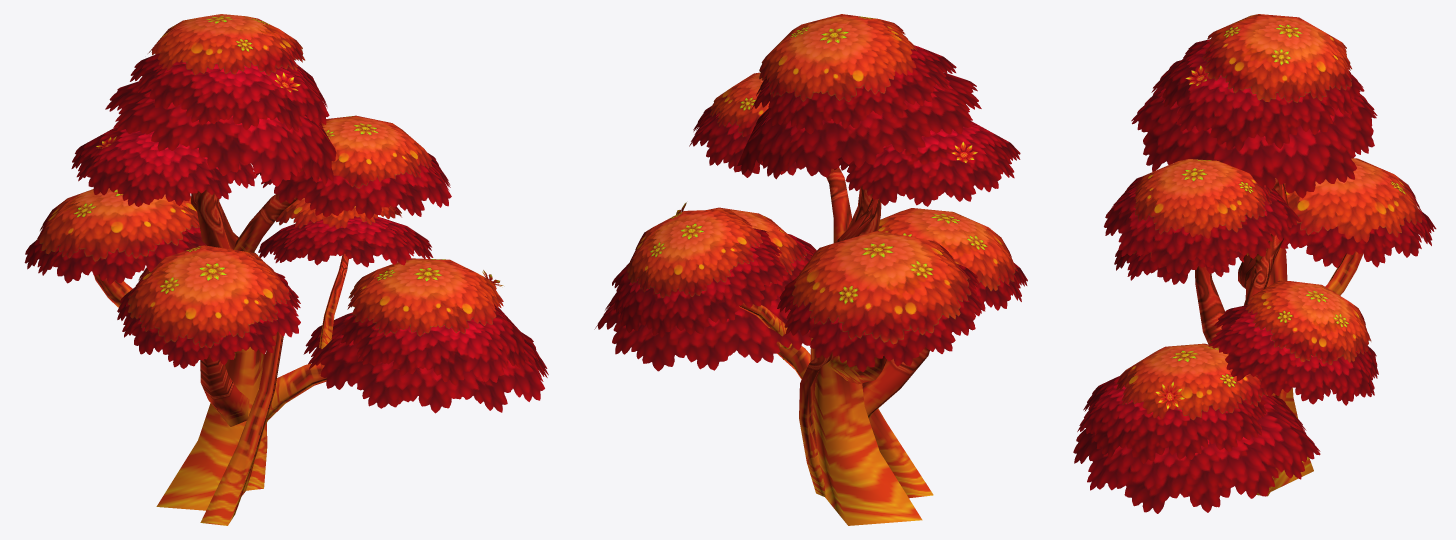
File: Red_Tree_08b.FBX
3 renders of one model, left to right at view 1: azimuth 30°, elevation 25°; view 2: azimuth 150°, elevation 25°; view 3: azimuth 270°, elevation 25°, orthographic. The views are drawn at different scales.
Visible parts, largest first — view 1: Red_Tree_08b; view 2: Red_Tree_08b; view 3: Red_Tree_08b.
Boxes of the visible parts, x1,y1,x2,y2 form: Red_Tree_08b: (24,14,548,525); Red_Tree_08b: (594,14,1027,525); Red_Tree_08b: (1073,14,1436,513).
Bounding box in the file's own units: 475 × 478 × 362.
